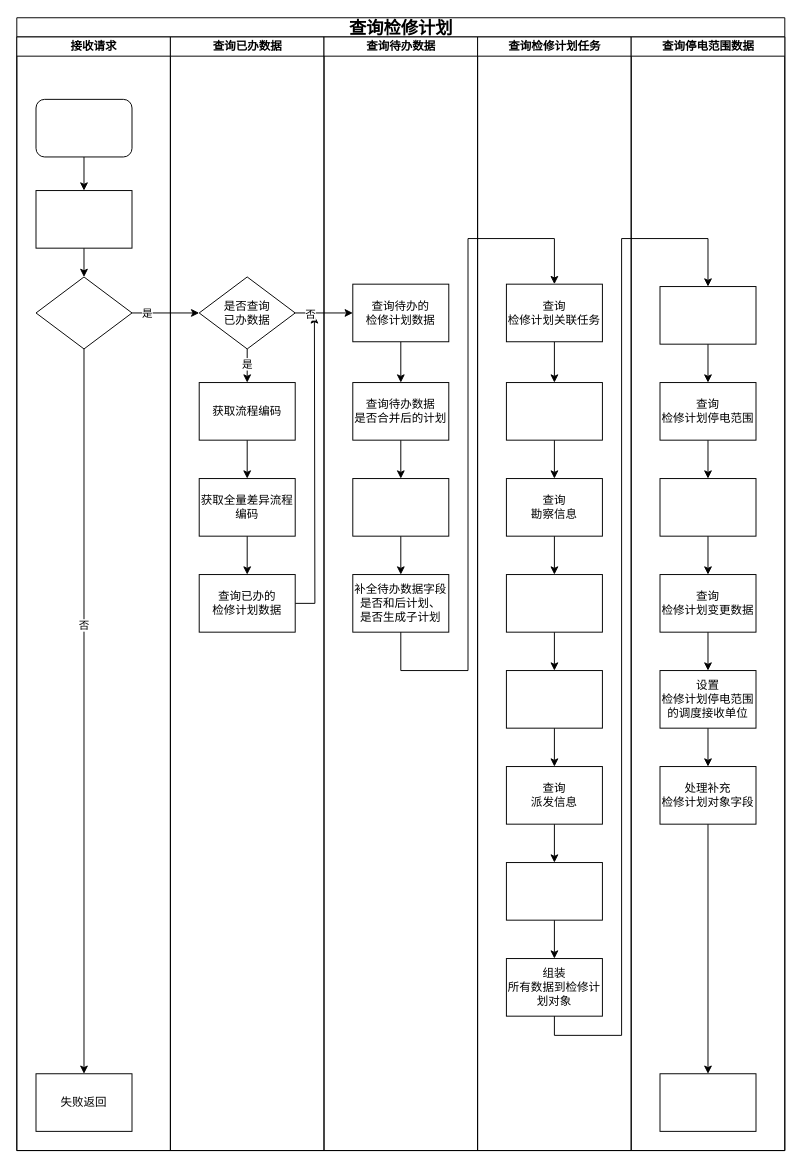
Some shapes in this 802 by 1167 pixel diagram are drawn without their labels. The shapes that lost their labels are listed below. From the top down, each one's centre as x and y in pixels, then its label:
At point (83, 127): "开始".
At point (83, 219): "参数转换/处理".
At point (83, 312): "参数校验".
At point (707, 315): "查询 停电边界设备".
At point (553, 411): "查询 检修设备信息".
At point (400, 507): "查询待办数据 是否生成子计划".
At point (707, 507): "查询 检修计划的站线".
At point (553, 603): "查询 工序信息".
At point (553, 699): "查询 检修班组".
At point (553, 891): "查询 创建人组织信息".
At point (707, 1102): "成功返回".
